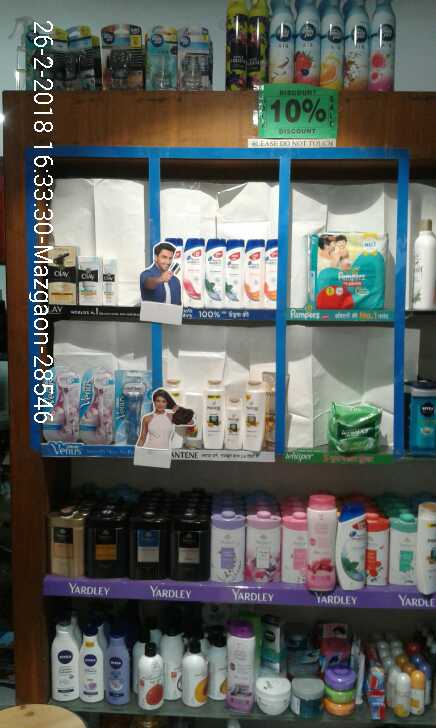venus: (81, 368, 116, 446), (45, 368, 81, 440), (116, 372, 151, 446)
